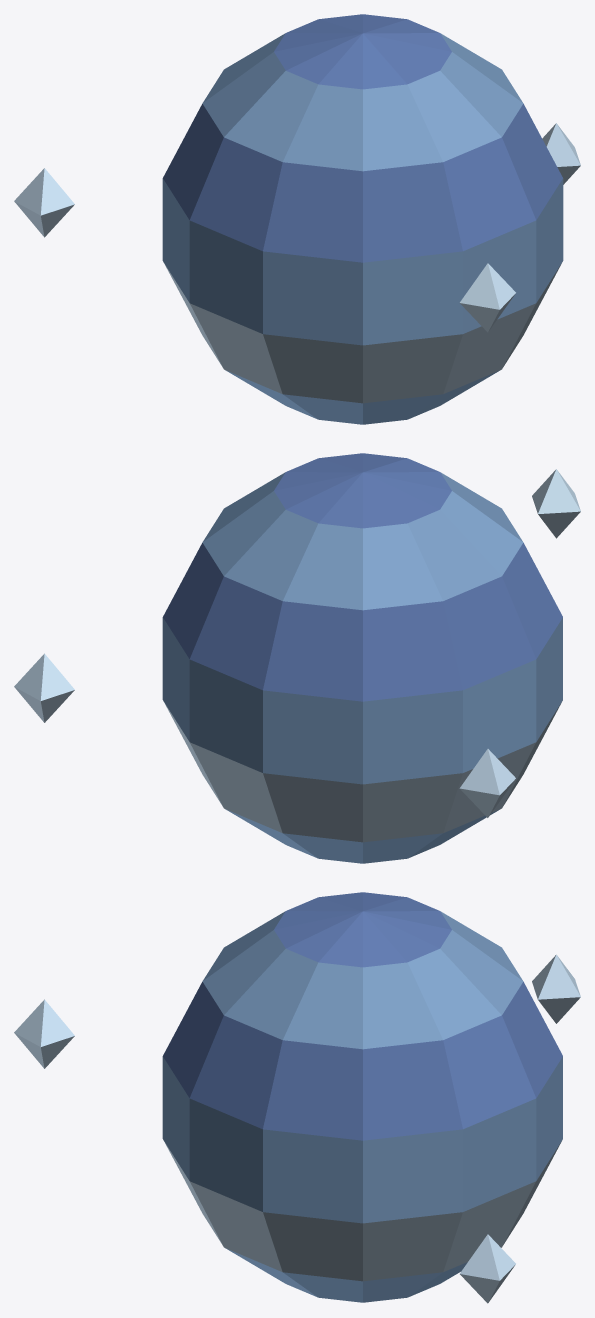
File: held_crystal_ball.glb
3 renders of one model, top to bottom at view 1: azimuth 30°, elevation 25°; view 2: azimuth 150°, elevation 25°; view 3: azimuth 270°, elevation 25°, orthographic.
Visible parts, largest first — view 1: held_crystal_ball; view 2: held_crystal_ball; view 3: held_crystal_ball.
Boxes of the visible parts, x1,y1,x2,y2 form: held_crystal_ball: (14,14,580,424); held_crystal_ball: (14,453,580,863); held_crystal_ball: (14,892,580,1303).
Size of the model in its own units: 0.471 by 0.32 by 0.4418.
